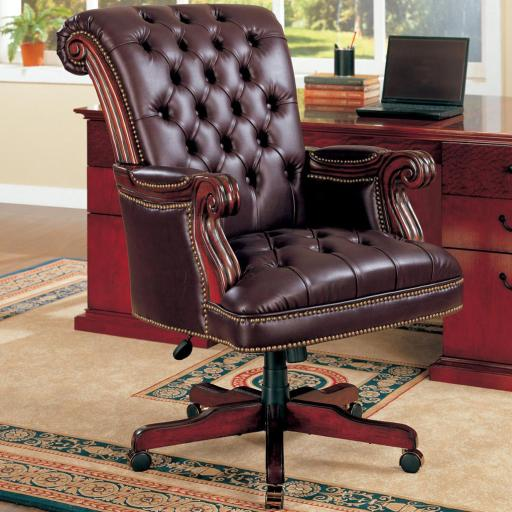chair: (56, 4, 464, 508)
desk: (73, 89, 511, 392)
